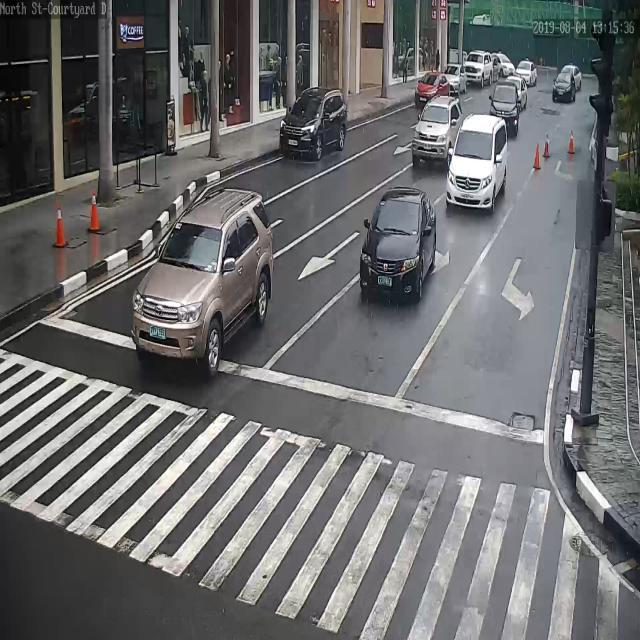car: (130, 185, 276, 369), (358, 183, 438, 304), (279, 87, 350, 162), (410, 95, 463, 163), (490, 82, 518, 137), (416, 71, 452, 104), (464, 49, 494, 84), (442, 63, 472, 93), (505, 75, 527, 110), (552, 71, 576, 103), (492, 52, 516, 78), (515, 59, 537, 87), (561, 65, 582, 91)
van: (446, 114, 508, 211)
